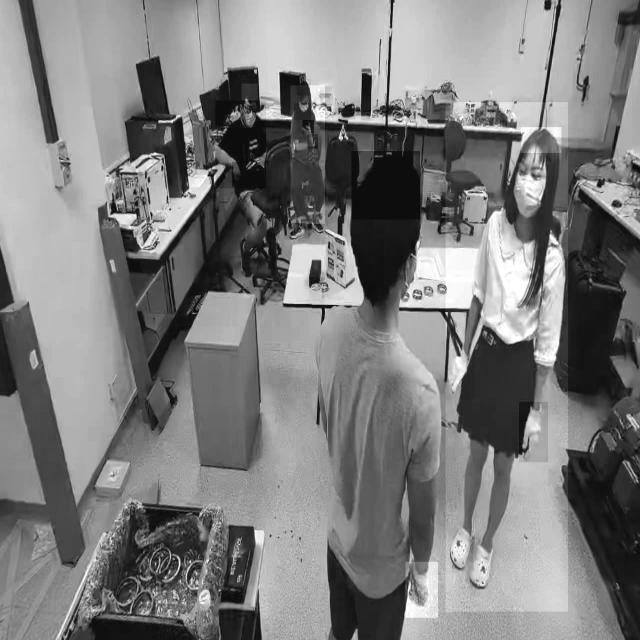face_mask: (512, 164, 544, 224), (242, 108, 256, 134), (294, 103, 311, 120)
hand_glove: (405, 562, 438, 618), (518, 402, 548, 463), (446, 338, 474, 400)
hand_noglove: (232, 162, 244, 188), (307, 134, 318, 150), (302, 120, 314, 134)
head_nohelmet: (351, 151, 420, 221), (520, 127, 562, 154), (241, 84, 257, 102), (296, 79, 311, 96)
person: (305, 108, 453, 639), (446, 102, 568, 612), (290, 85, 325, 224), (215, 100, 266, 190)
